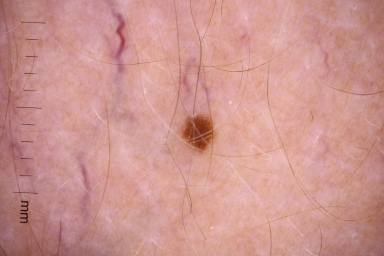melanoma: (183, 114, 215, 151)
